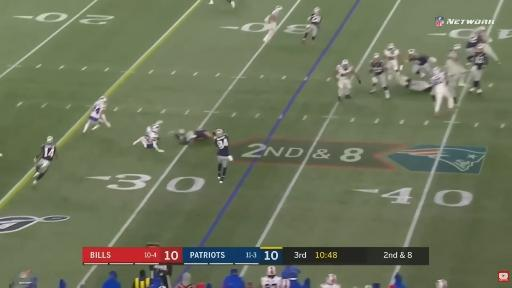Helmet: (326, 274, 336, 284), (267, 266, 275, 276), (436, 280, 447, 287), (281, 279, 290, 287), (215, 129, 224, 136), (433, 67, 441, 74), (477, 44, 484, 52), (407, 49, 416, 54), (47, 136, 53, 143), (454, 44, 461, 50), (478, 26, 486, 31), (314, 7, 320, 13), (99, 96, 106, 101), (374, 53, 379, 60), (388, 44, 394, 49), (342, 60, 348, 65), (156, 120, 162, 124), (276, 6, 282, 10)
Jersey: (214, 135, 230, 157), (89, 102, 105, 121), (430, 72, 446, 90), (406, 80, 431, 91), (41, 144, 56, 161), (474, 52, 487, 69), (261, 276, 281, 287), (336, 65, 352, 78), (371, 60, 384, 76), (466, 36, 483, 48), (145, 132, 158, 147), (410, 55, 428, 65), (384, 49, 399, 60), (308, 14, 321, 26), (268, 9, 279, 23), (195, 130, 208, 139), (448, 50, 457, 60), (320, 284, 340, 287)
Player: (466, 26, 499, 64), (431, 67, 454, 115), (33, 136, 56, 184), (335, 60, 361, 100), (214, 129, 233, 183), (446, 44, 466, 92), (84, 97, 110, 132), (370, 54, 390, 98), (470, 44, 487, 94), (408, 49, 436, 78), (384, 44, 402, 82), (303, 7, 321, 45), (133, 130, 163, 152), (264, 6, 282, 42), (174, 129, 213, 145), (403, 77, 431, 92), (261, 266, 281, 287), (320, 274, 340, 287), (147, 120, 162, 133), (281, 279, 291, 287), (436, 280, 447, 287), (227, 0, 235, 8)
